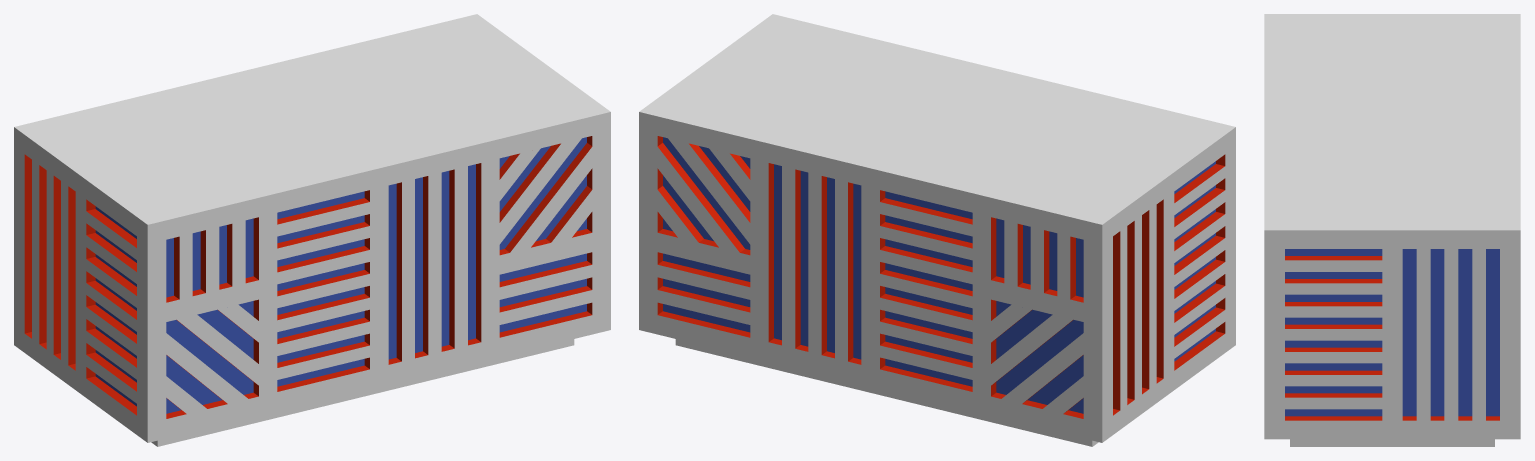
File: TableIlluminated.fbx
3 views of the same model, side by side, from view 1: azimuth 30°, elevation 25°; view 2: azimuth 150°, elevation 25°; view 3: azimuth 270°, elevation 25° (orthographic). The views are drawn at different scales.
Visible parts, largest first — view 1: TableIlluminated, Borders, Inside; view 2: TableIlluminated, Borders, Inside; view 3: TableIlluminated, Inside, Borders.
Part boxes in pixels (box(x1,y1,x2,y2)): TableIlluminated: box(14, 14, 610, 446); Borders: box(24, 136, 592, 418); Inside: box(95, 137, 586, 413); TableIlluminated: box(639, 14, 1235, 446); Borders: box(657, 136, 1225, 418); Inside: box(663, 137, 1215, 413); TableIlluminated: box(1264, 14, 1520, 446); Inside: box(1285, 249, 1499, 416); Borders: box(1285, 256, 1499, 420).
Bounding box in the file's own units: 1 × 0.49 × 0.5.
